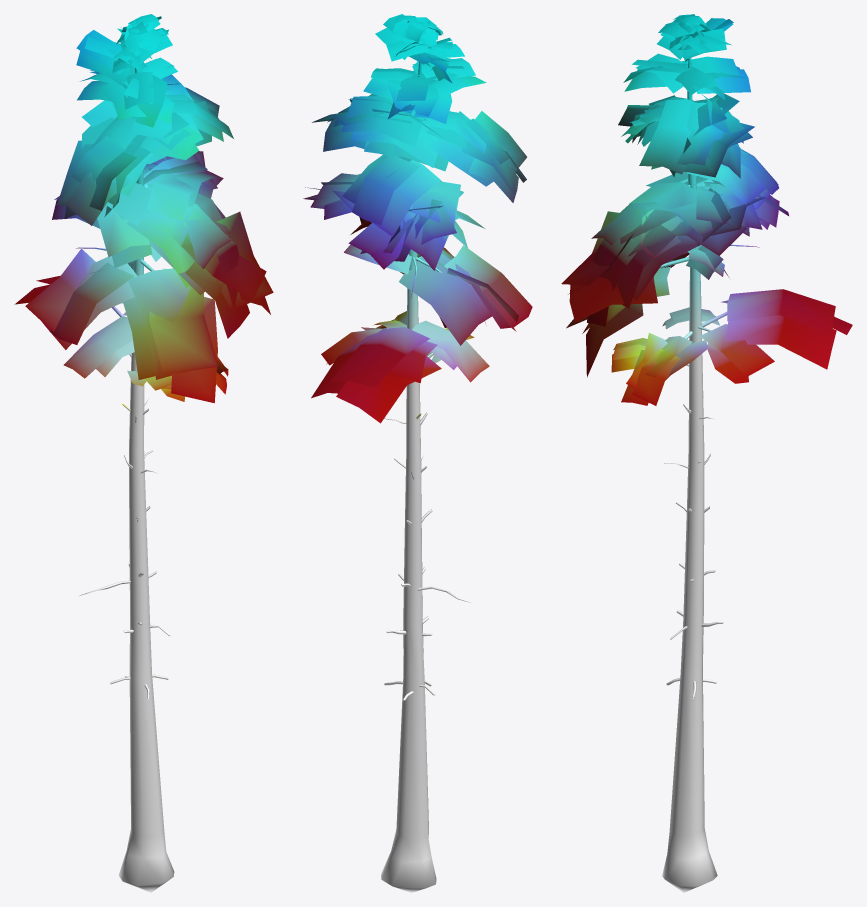
Rendered from arden_forest_pine_big_04.fbx.
3 renders of one model, left to right at view 1: azimuth 30°, elevation 25°; view 2: azimuth 150°, elevation 25°; view 3: azimuth 270°, elevation 25°, orthographic.
Visible parts, largest first — view 1: arden_forest_pine_big_04; view 2: arden_forest_pine_big_04; view 3: arden_forest_pine_big_04.
Part boxes in pixels (bbox=[...]): arden_forest_pine_big_04: bbox=[14, 14, 273, 892]; arden_forest_pine_big_04: bbox=[303, 14, 532, 892]; arden_forest_pine_big_04: bbox=[561, 14, 852, 892].
Bounding box in the file's own units: 3.7 × 4.52 × 14.93.
